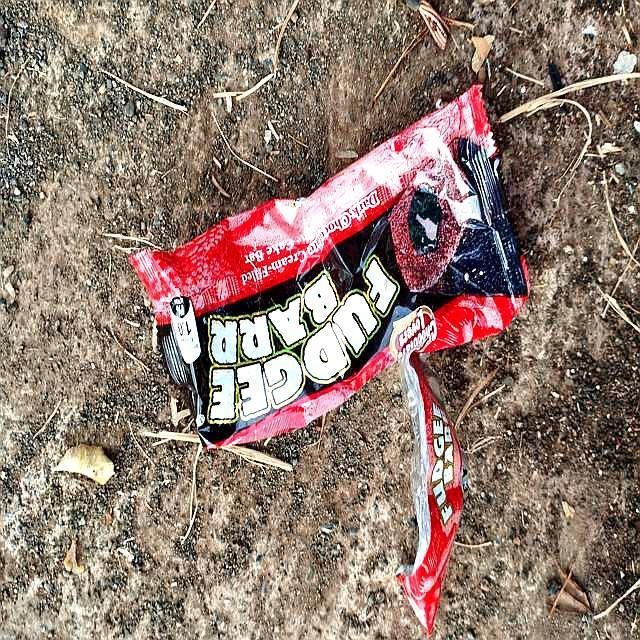Non-biodegradable: (121, 79, 541, 473)
